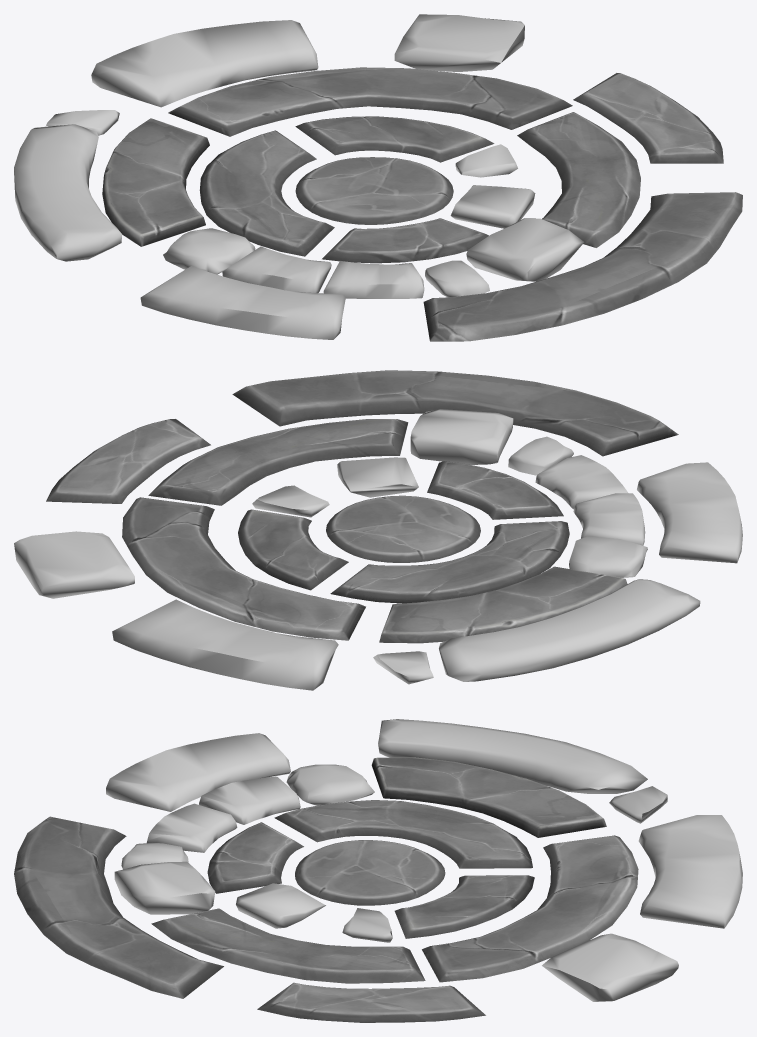
File: Stone04.fbx
3 renders of one model, top to bottom at view 1: azimuth 30°, elevation 25°; view 2: azimuth 150°, elevation 25°; view 3: azimuth 270°, elevation 25°, orthographic. The views are drawn at different scales.
Parts seen in each view (by area): view 1: Stone04; view 2: Stone04; view 3: Stone04.
Part boxes in pixels (<box>): Stone04: <box>14,14,742,341</box>; Stone04: <box>14,370,742,690</box>; Stone04: <box>14,719,742,1022</box>.
Bounding box in the file's own units: 10.84 × 0.3762 × 11.35.
